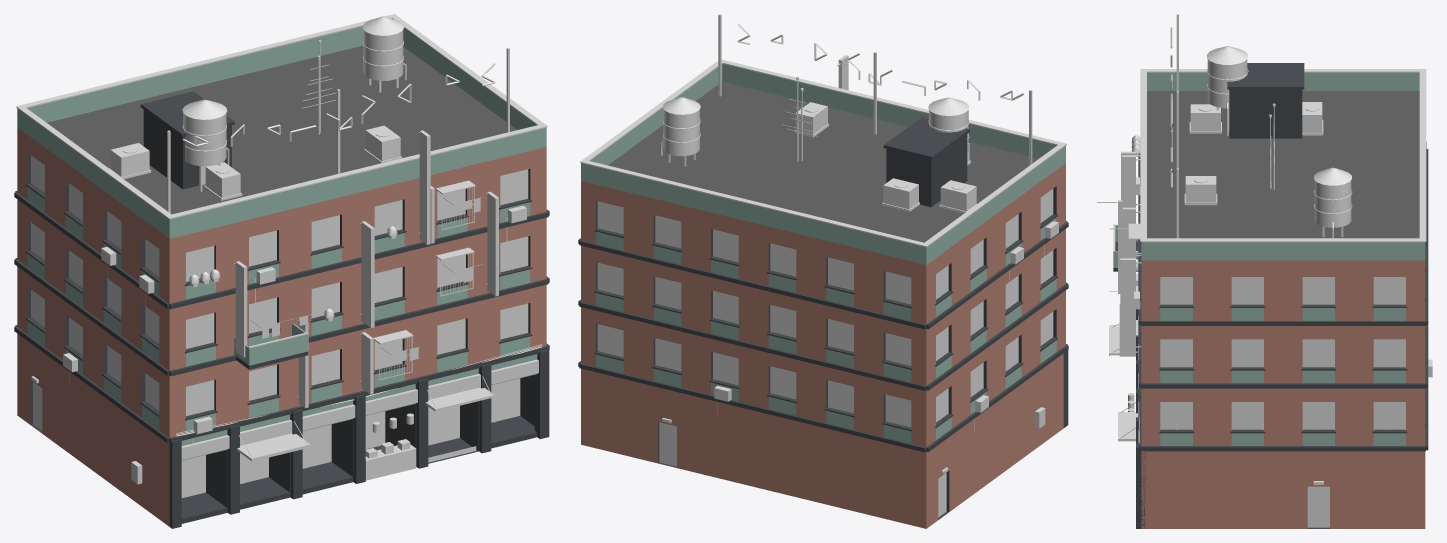
File: LB_NM_Arcade_C.fbx
The picture shows the model from 3 angles, left to right: view 1: azimuth 30°, elevation 25°; view 2: azimuth 150°, elevation 25°; view 3: azimuth 270°, elevation 25°; orthographic projection. The views are drawn at different scales.
Visible parts, largest first — view 1: LB_NM_Arcade_C_LOD0; view 2: LB_NM_Arcade_C_LOD0; view 3: LB_NM_Arcade_C_LOD0.
Boxes of the visible parts, bbox=[...] form: LB_NM_Arcade_C_LOD0: bbox=[14, 14, 549, 528]; LB_NM_Arcade_C_LOD0: bbox=[578, 14, 1068, 528]; LB_NM_Arcade_C_LOD0: bbox=[1097, 14, 1432, 528].
Size of what is drawn, in the model's own units: 20.51 by 19.25 by 16.53.
